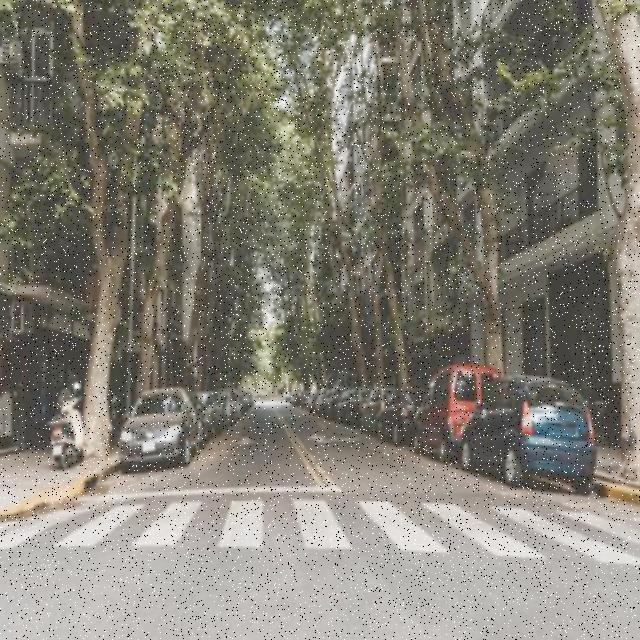crosswalk: (0, 488, 638, 574)
